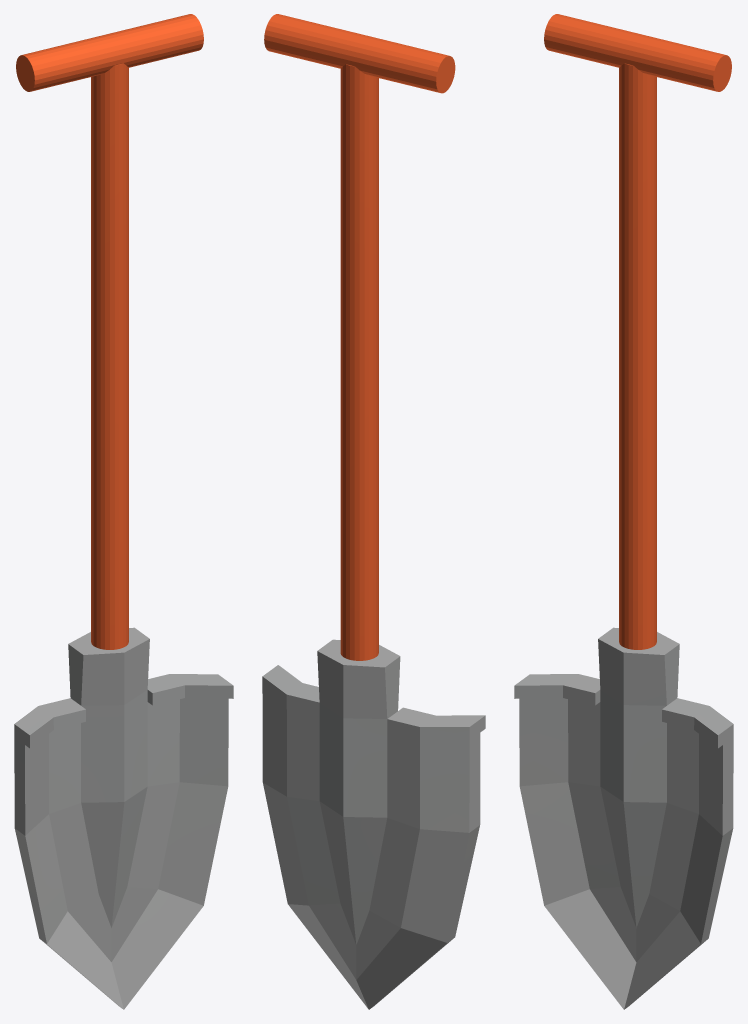
3 renders of one model, left to right at view 1: azimuth 30°, elevation 25°; view 2: azimuth 150°, elevation 25°; view 3: azimuth 330°, elevation 25°, orthographic.
Parts seen in each view (by area): view 1: Pá; view 2: Pá; view 3: Pá.
Part boxes in pixels (<box>): Pá: <box>14,14,233,1009</box>; Pá: <box>262,14,485,1009</box>; Pá: <box>514,14,733,1009</box>.
Size of the model in its own units: 119 by 536 by 38.26.
Materials: 1 (1 with a texture image).
